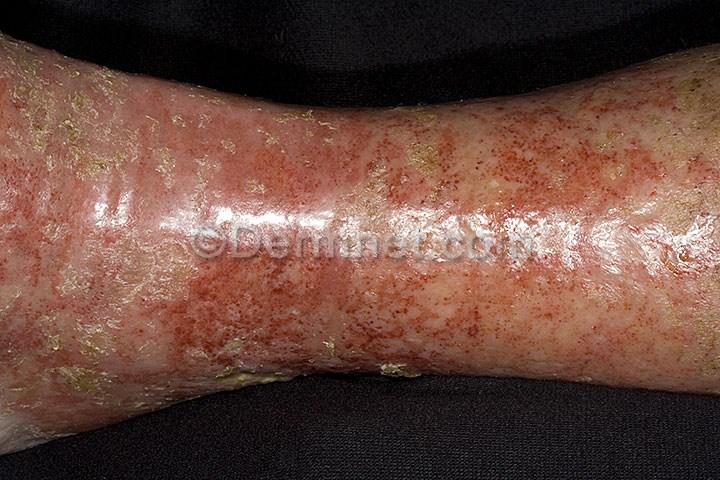Eczema: (560, 75, 664, 226), (466, 103, 581, 230), (0, 135, 121, 252), (115, 167, 238, 278), (12, 257, 116, 386), (188, 94, 290, 196), (300, 106, 398, 211), (584, 316, 713, 395), (309, 214, 431, 297), (391, 111, 473, 232), (135, 276, 240, 364), (467, 297, 584, 375), (596, 226, 693, 318), (0, 41, 94, 130), (261, 298, 367, 374), (365, 295, 473, 367), (436, 219, 517, 307), (103, 75, 179, 163), (234, 199, 307, 286), (663, 216, 720, 318), (639, 63, 697, 158), (665, 160, 715, 254), (517, 228, 586, 296), (233, 284, 264, 380), (0, 381, 52, 438), (70, 375, 135, 418), (149, 360, 232, 387), (699, 53, 720, 151)
